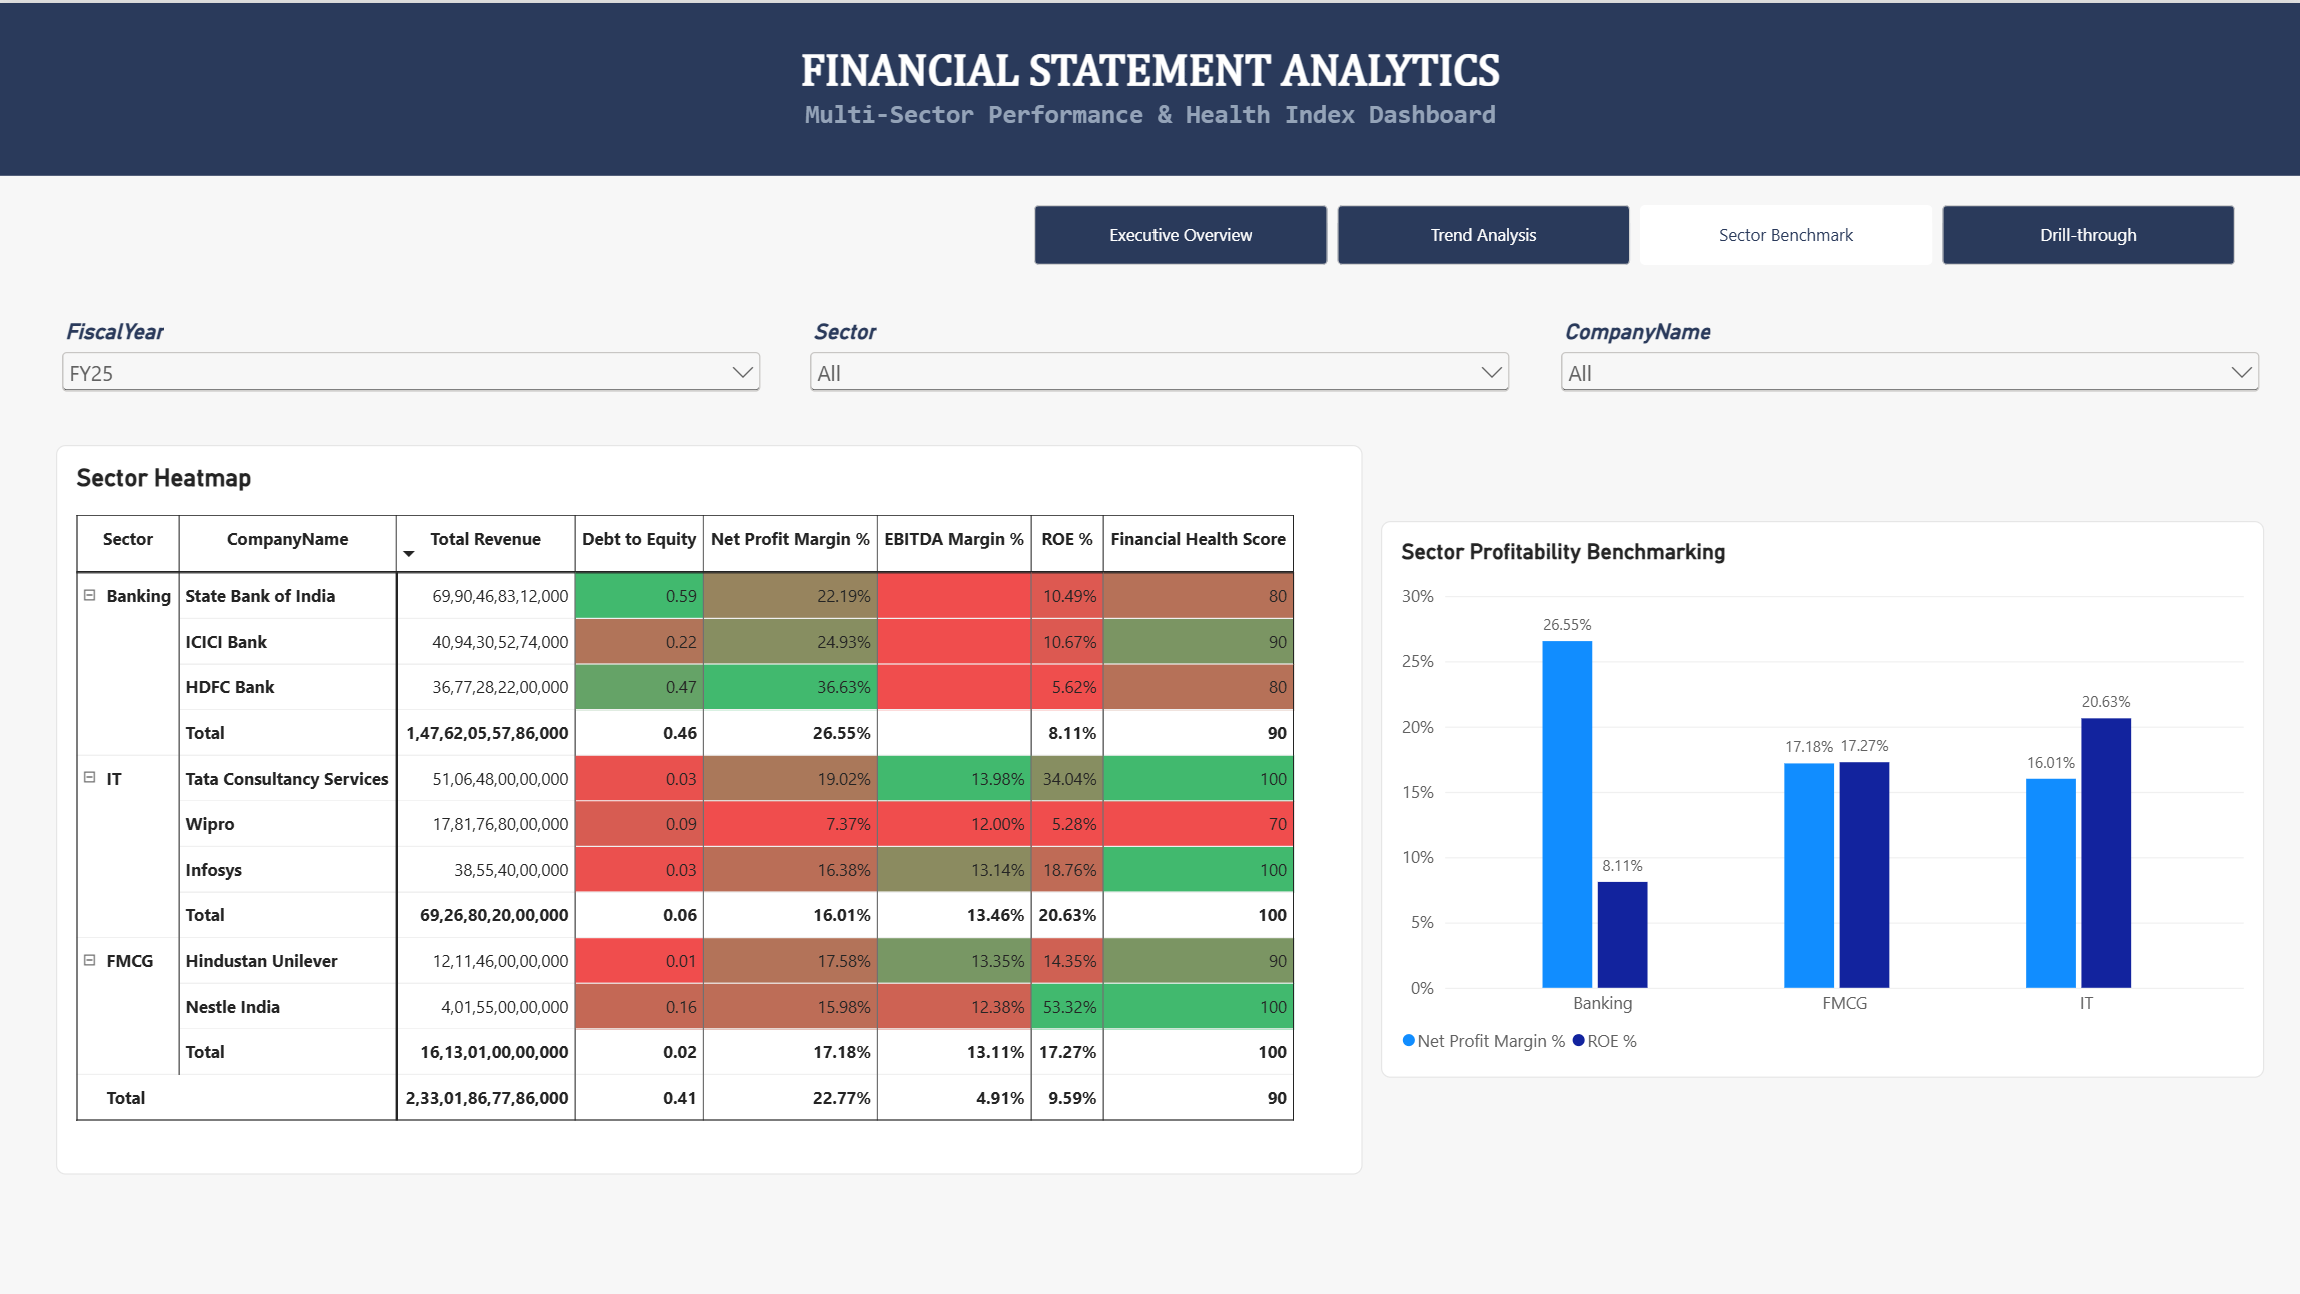

This screenshot's page, from the dashboard's own definition file:
{"tool":"powerbi","page":{"name":"Sector Benchmark","canvas":[1920,1080],"ordinal":2},"visuals":[{"type":"shape","box":[0,0,1920,144],"z":0},{"type":"textbox","box":[0,16,1920,128],"z":1000},{"type":"slicer","fields":{"Values":["Dim_Date.FiscalYear"]},"box":[48,264,592,64],"z":2000},{"type":"slicer","fields":{"Values":["Dim_Company.Sector"]},"box":[672,264,592,64],"z":3000},{"type":"slicer","fields":{"Values":["Dim_Company.CompanyName"]},"box":[1296,264,592,64],"z":4000},{"type":"pivotTable","title":"Sector Heatmap ","fields":{"Rows":["Dim_Company.Sector","Dim_Company.CompanyName"],"Values":["_Measures.Total Revenue","_Measures.Debt to Equity","_Measures.Net Profit Margin %","_Measures.EBITDA Margin %","_Measures.ROE %","_Measures.Financial Health Score"]},"box":[48,368,1088,608],"z":5000},{"type":"clusteredColumnChart","title":"Sector Profitability Benchmarking","fields":{"Category":["Dim_Company.Sector"],"Y":["_Measures.Net Profit Margin %","_Measures.ROE %"]},"box":[1152,432,736,464],"z":6000},{"type":"pageNavigator","box":[864,168,1000,50],"z":7000}]}

Visuals, with their boxes in screenshot pixels (x1, y1, x2, y2), scaled from the page's 1920x1080 canvas onto the 2300x1294 screenshot:
shape: [left=0, top=0, right=2299, bottom=173]
textbox: [left=0, top=19, right=2299, bottom=173]
slicer - Dim_Date.FiscalYear: [left=58, top=316, right=767, bottom=393]
slicer - Dim_Company.Sector: [left=805, top=316, right=1514, bottom=393]
slicer - Dim_Company.CompanyName: [left=1552, top=316, right=2262, bottom=393]
"Sector Heatmap " pivotTable: [left=58, top=441, right=1361, bottom=1169]
"Sector Profitability Benchmarking" clusteredColumnChart: [left=1380, top=518, right=2262, bottom=1074]
pageNavigator: [left=1035, top=201, right=2233, bottom=261]
